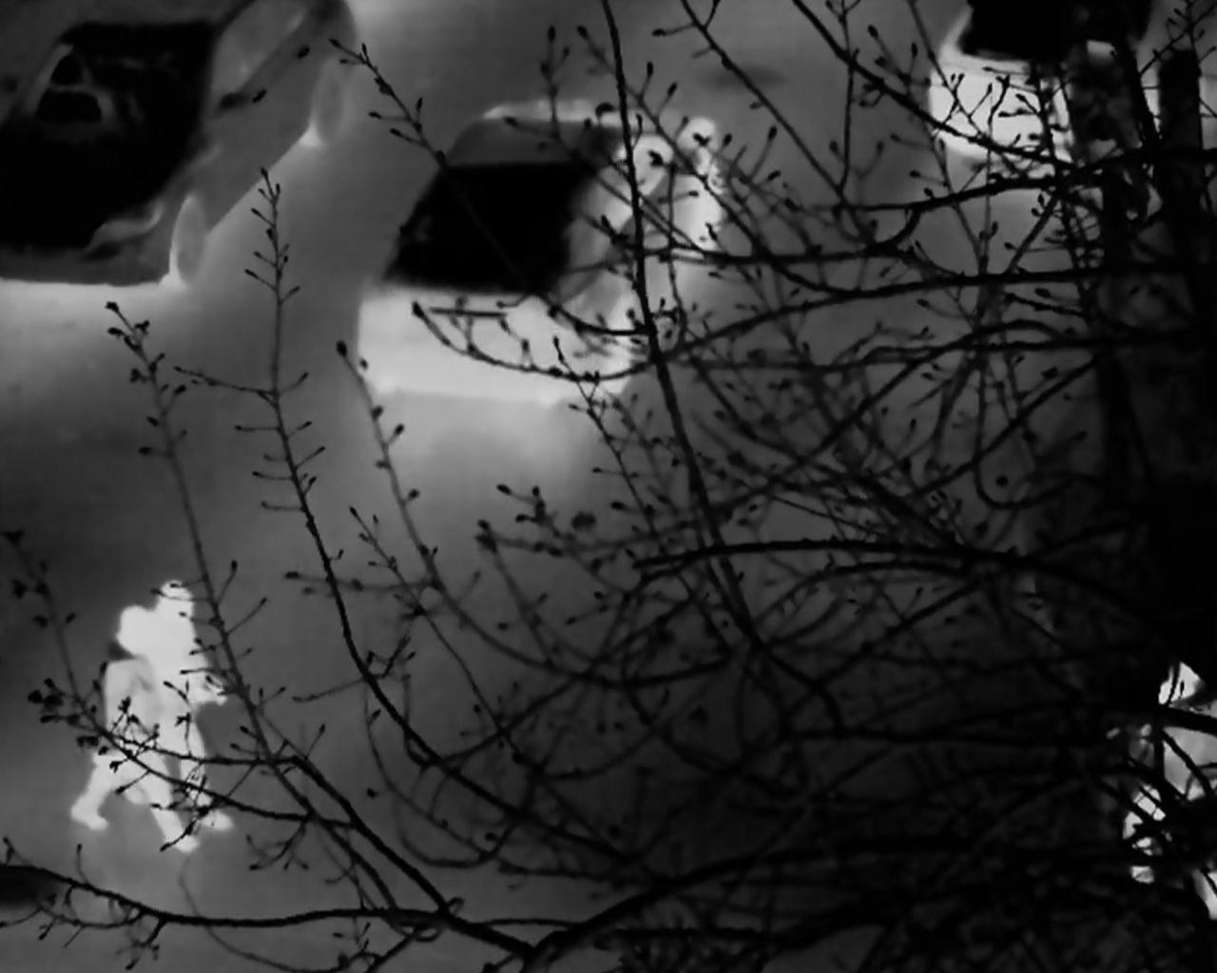person: (100, 598, 196, 840), (1126, 668, 1216, 910), (161, 582, 245, 823)
